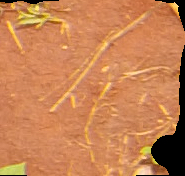soil: (1, 1, 183, 176)
